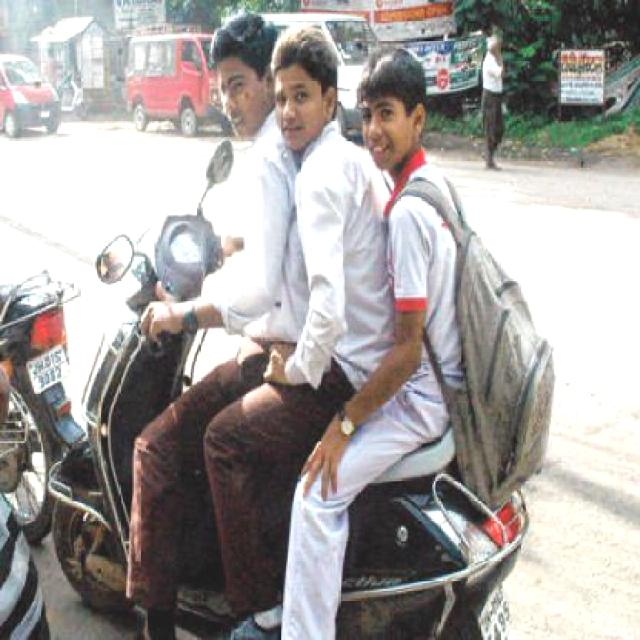Without Helmet: (270, 16, 344, 141), (203, 12, 275, 138), (360, 41, 425, 162)
